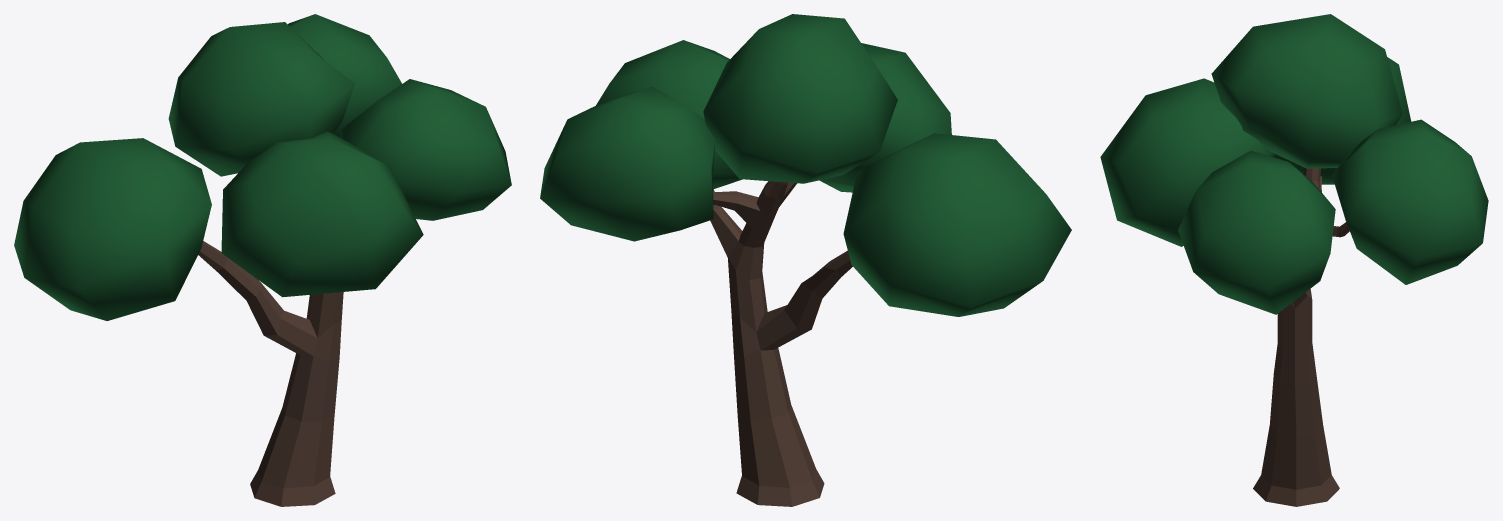
File: tree_feuillu_low.fbx
3 views of the same model, side by side, from view 1: azimuth 30°, elevation 25°; view 2: azimuth 150°, elevation 25°; view 3: azimuth 270°, elevation 25° (orthographic). The views are drawn at different scales.
Parts seen in each view (by area): view 1: group2; view 2: group2; view 3: group2.
Boxes of the visible parts, <box> form: group2: <box>14,14,511,506</box>; group2: <box>540,14,1071,506</box>; group2: <box>1100,14,1488,506</box>.
Bounding box in the file's own units: 637 × 609 × 473.
